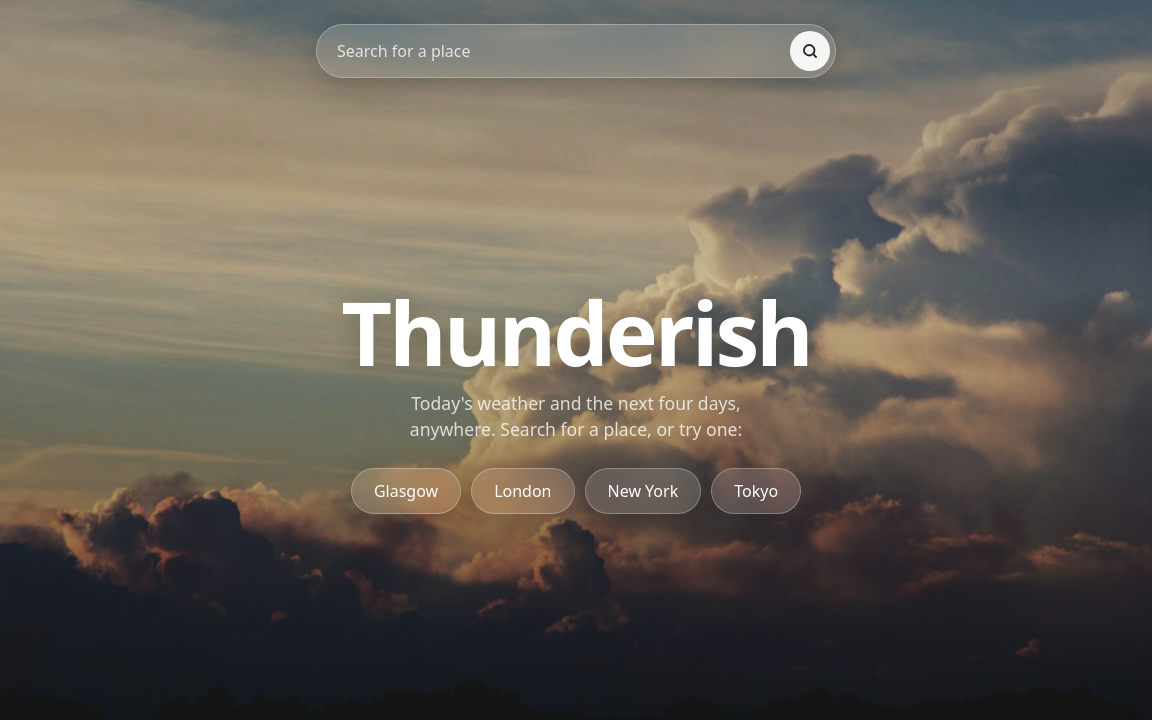
Test: Thunderish › says so when a place cannot be found, instead of searching forever
Type "Nowhereville" into the search field labelled "Search for a place". click: {"x": 560, "y": 51}
box: left=337, top=30, right=784, bottom=72
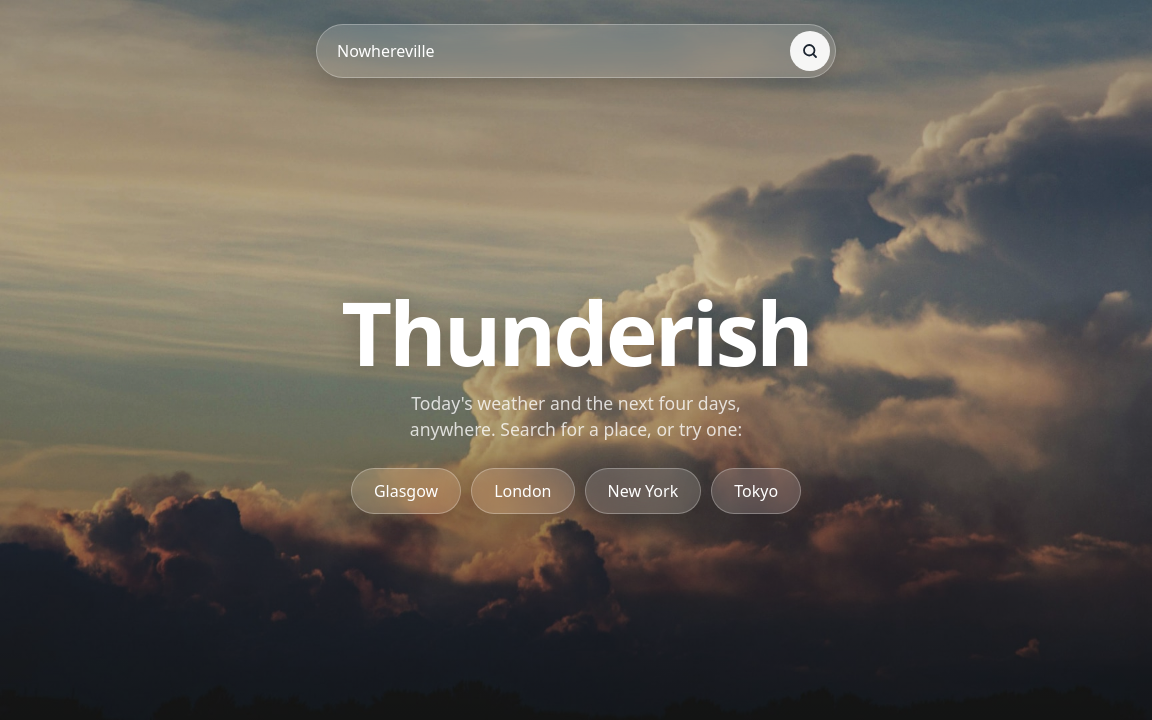
Submit the form named "Search for a place", box left=316, top=24, right=836, bottom=78
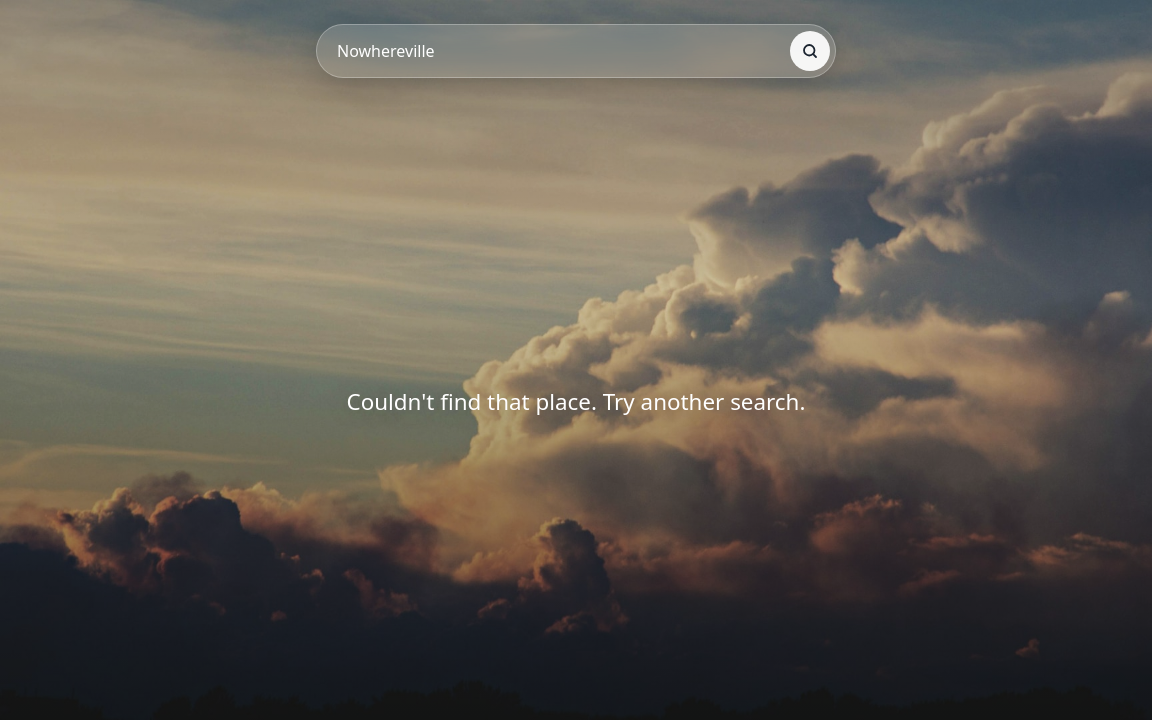
expect the text "Couldn't find that place. Try another search." is shown: met, box left=346, top=386, right=805, bottom=416
